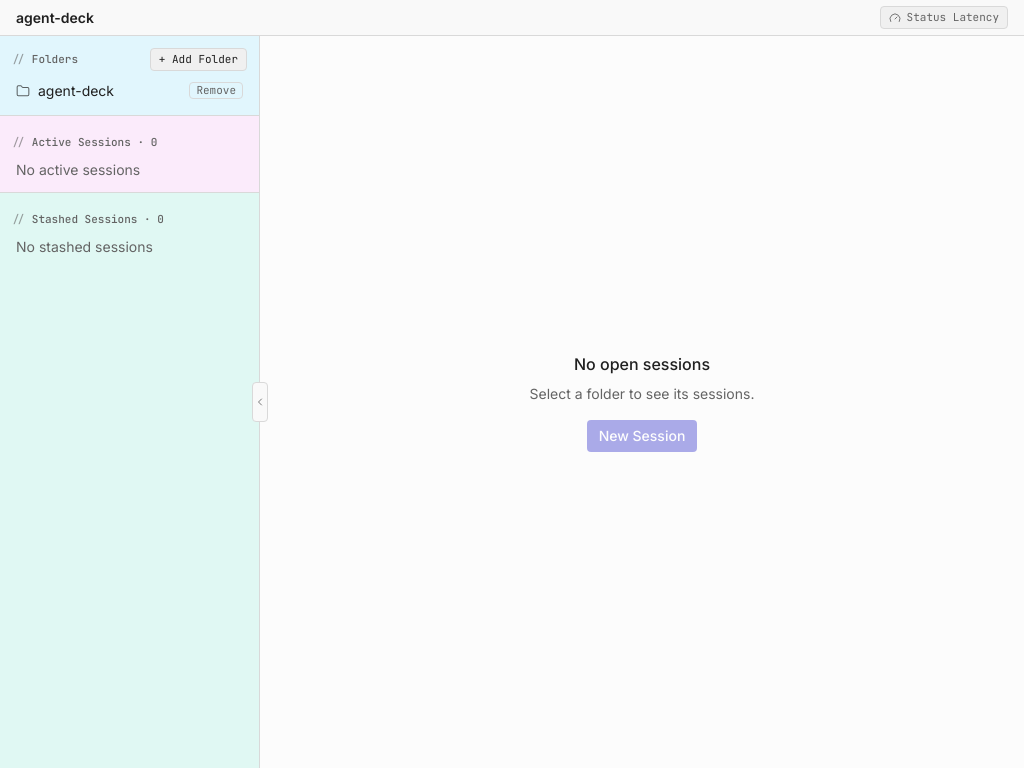
New Session (5.4) › shows Folder not found when the backend reports the folder missing
Click the button "agent-deck". click: coordinates (99, 90)
box: [16,80,181,100]
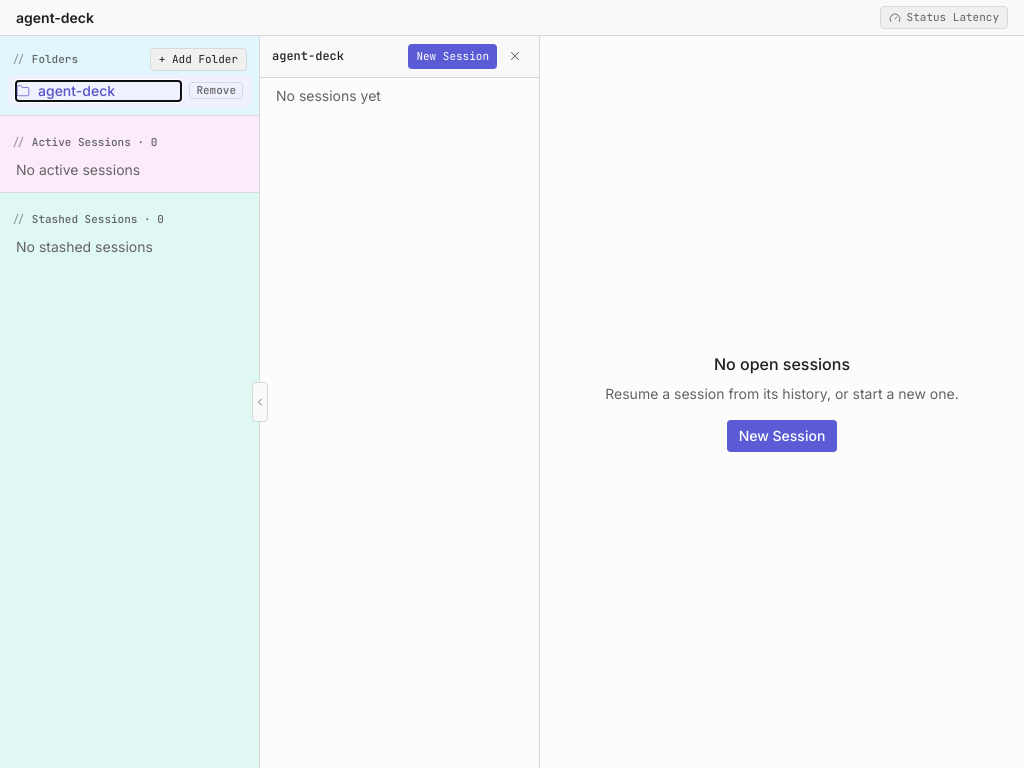
Click the 1st button "New Session". click: coordinates (453, 56)
box: [408,44,497,68]
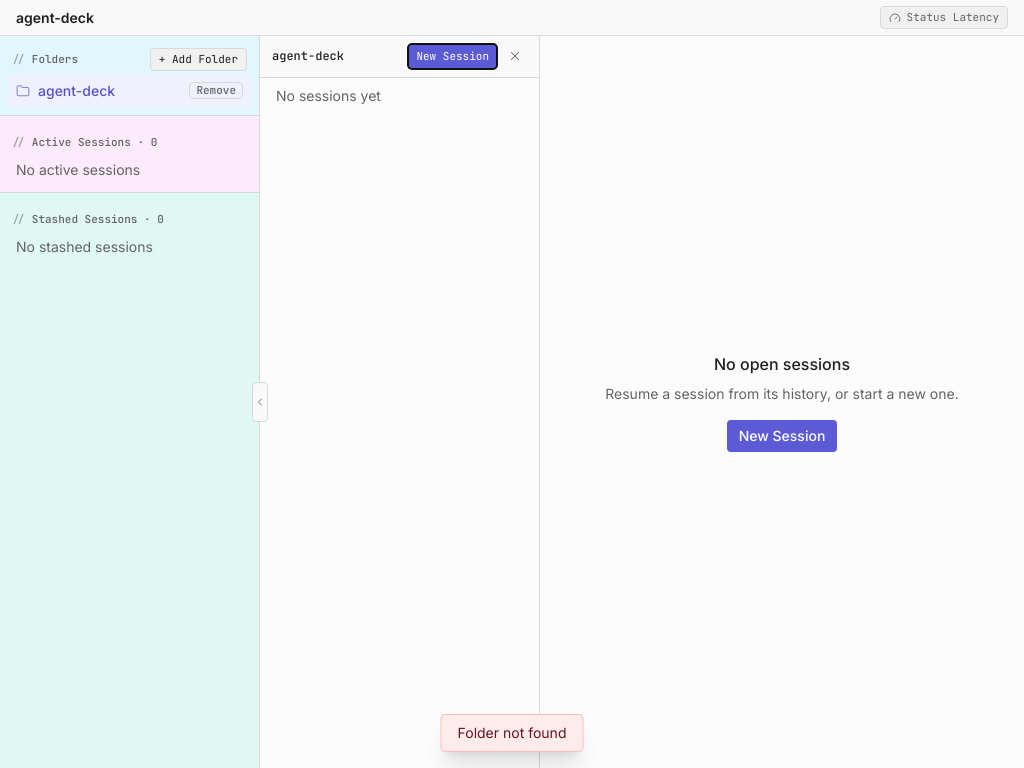
expect the text "Folder not found" is shown: met, box [440,714,583,752]
